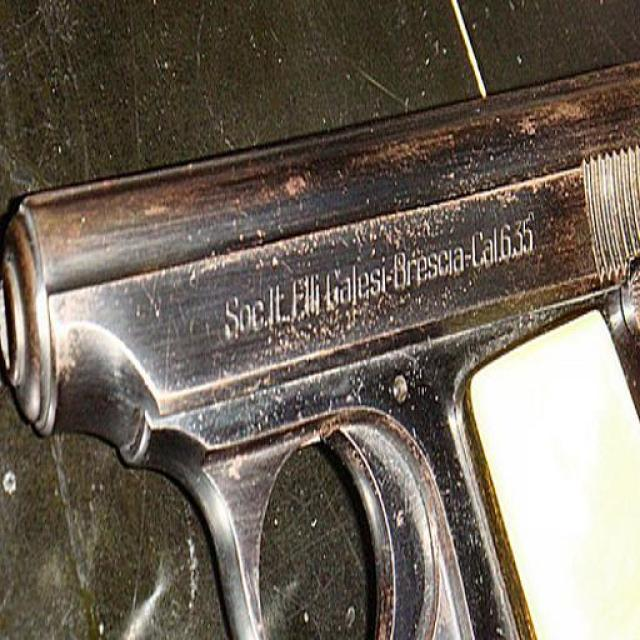pistol: (2, 64, 640, 640)
